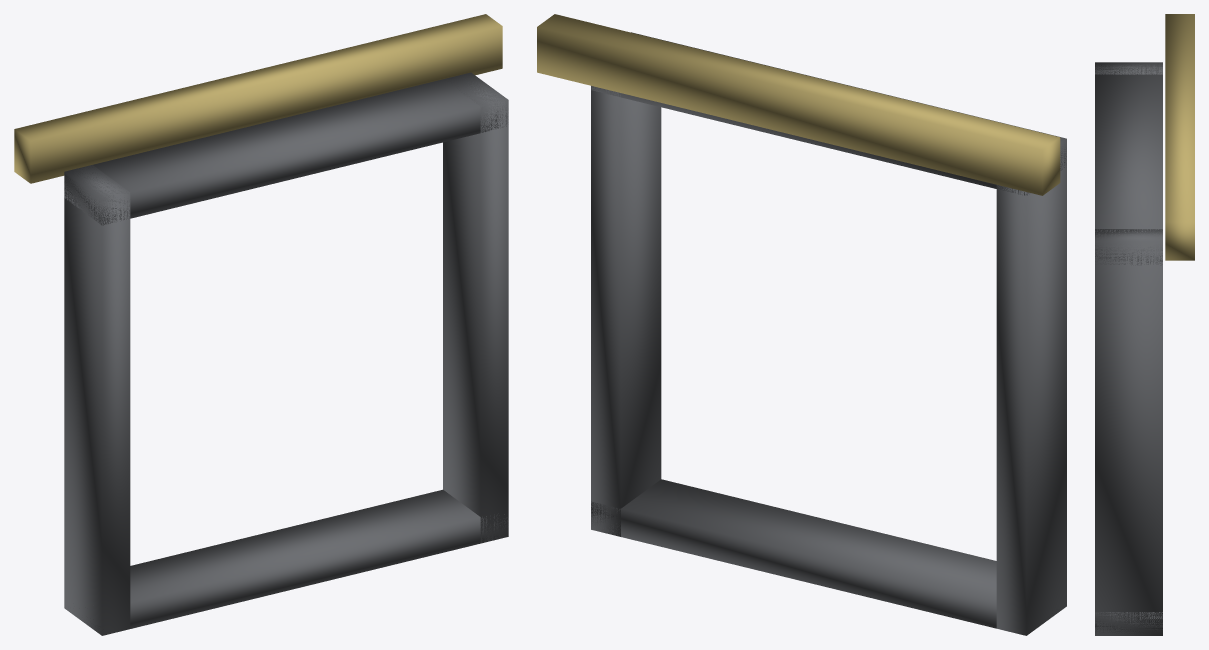
Rendered from egress_window_motel_w86_h90_s72_d16.glb.
3 views of the same model, side by side, from view 1: azimuth 30°, elevation 25°; view 2: azimuth 150°, elevation 25°; view 3: azimuth 270°, elevation 25° (orthographic). The views are drawn at different scales.
Parts seen in each view (by area): view 1: world; view 2: world; view 3: world.
Part boxes in pixels (left/top/right/bottom): world: left=14, top=14, right=508, bottom=635; world: left=537, top=14, right=1066, bottom=635; world: left=1095, top=14, right=1194, bottom=635.
Size of the model in its own units: 1.16 by 1.11 by 0.235.
